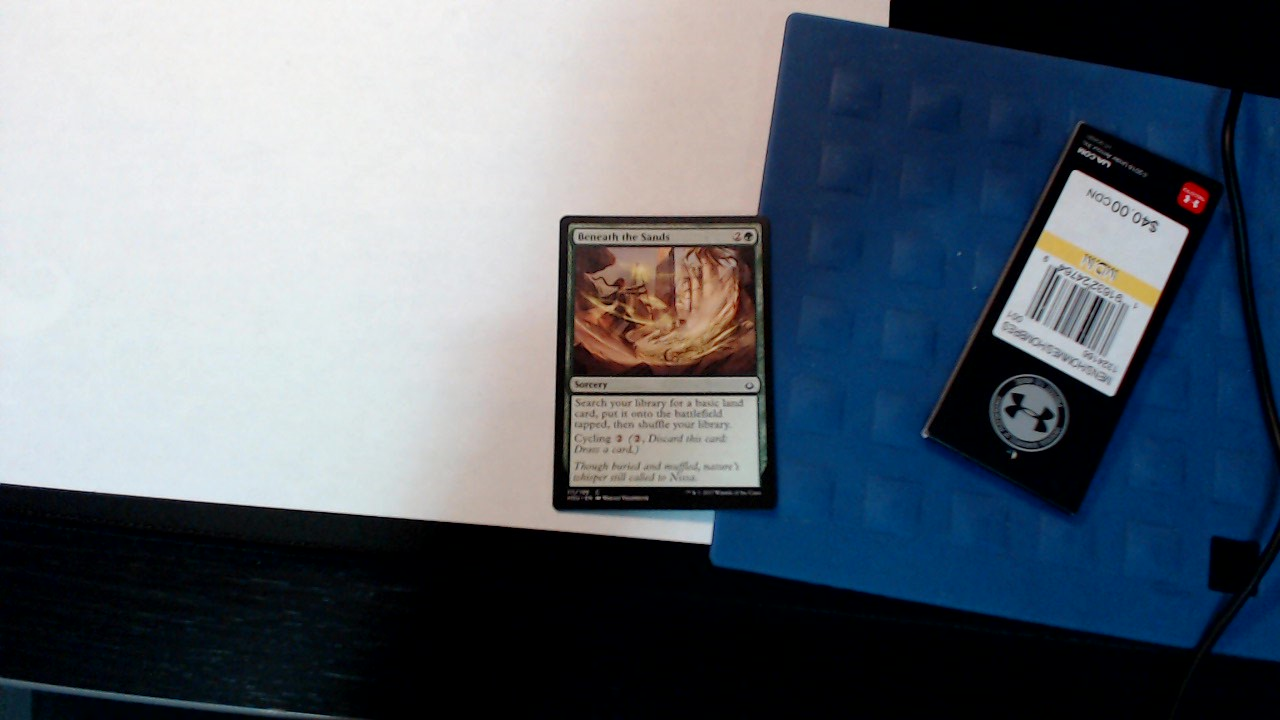MTG Card: (549, 209, 785, 516)
